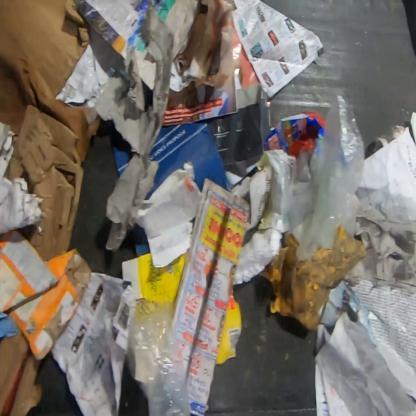cardboard: (0, 0, 99, 162), (0, 231, 93, 359), (10, 103, 84, 261), (258, 226, 368, 332), (122, 251, 189, 307), (0, 330, 42, 416), (214, 288, 242, 366)
soft_plastic: (284, 93, 366, 262), (125, 302, 191, 415)
